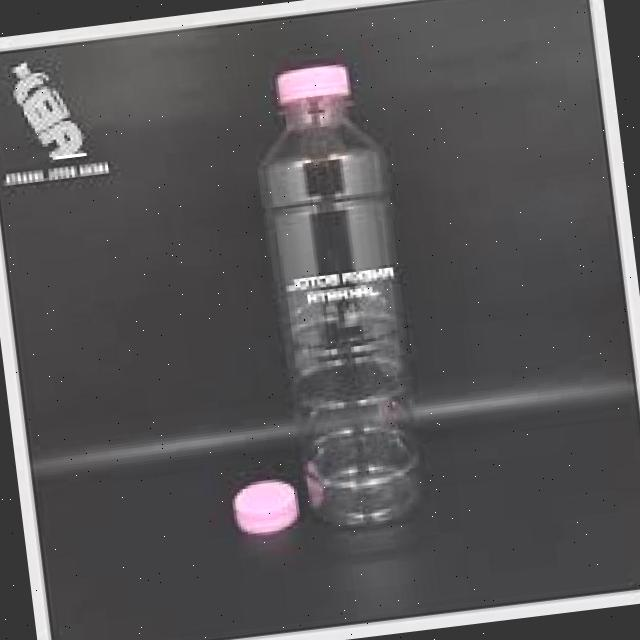bottle: (203, 40, 460, 548)
cap: (270, 50, 366, 117)
